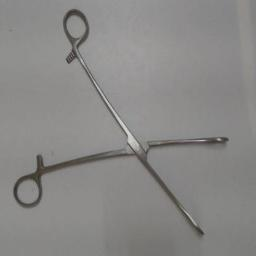Sponge Forceps: (10, 4, 234, 240)
